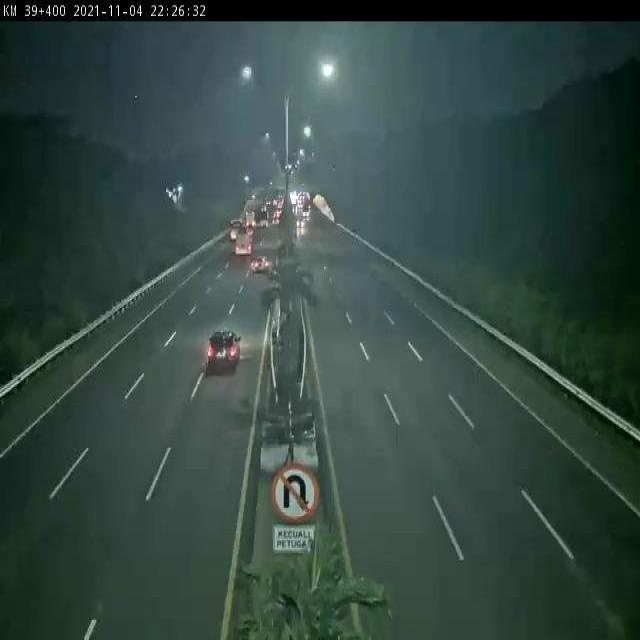car: (199, 310, 258, 386), (247, 250, 280, 286)
